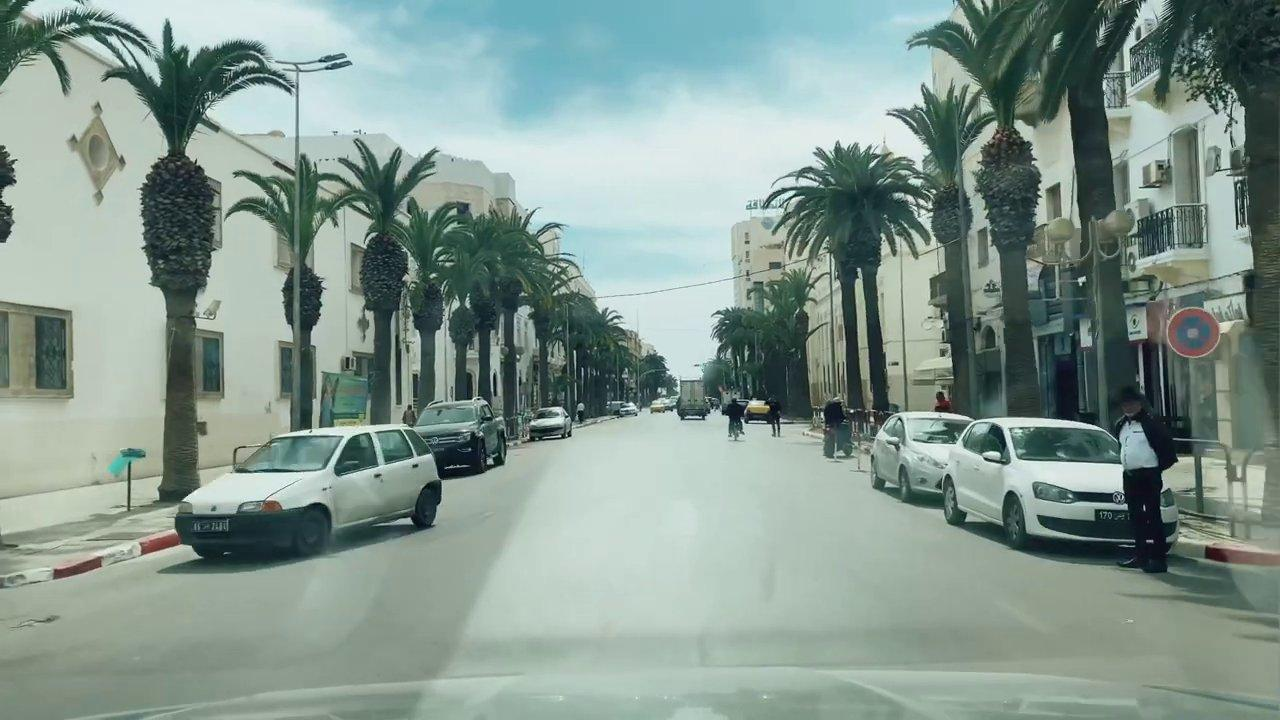no stopping: (1166, 301, 1223, 361)
